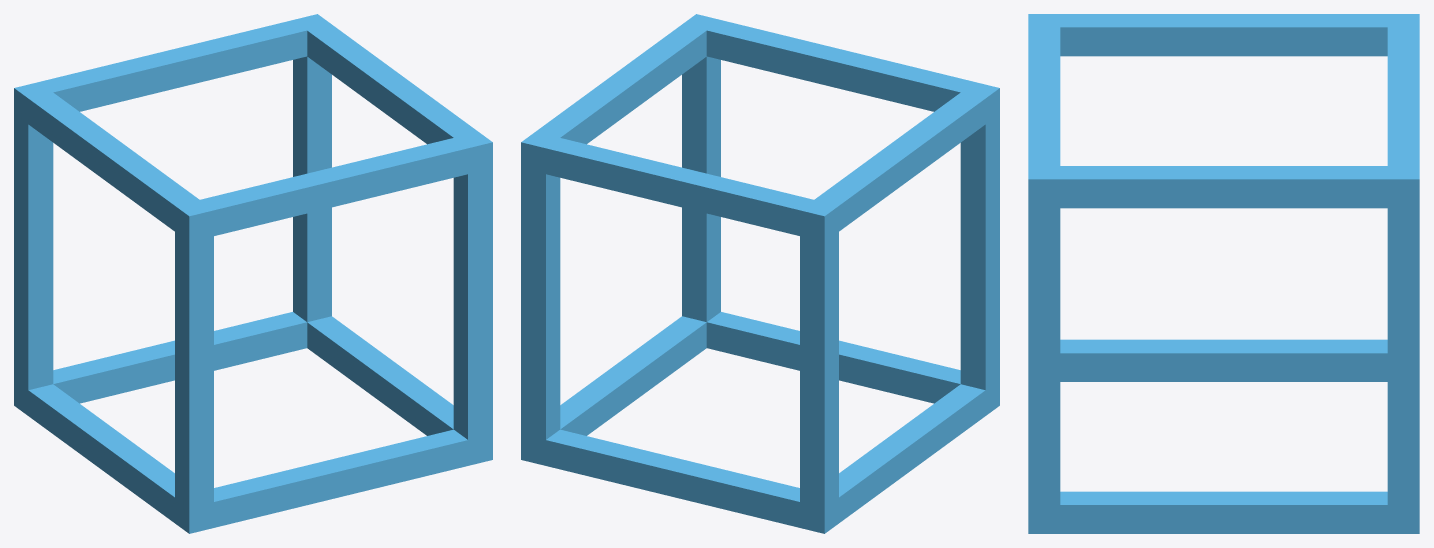
File: toggleblock_on_off.obj
The picture shows the model from 3 angles, left to right: view 1: azimuth 30°, elevation 25°; view 2: azimuth 150°, elevation 25°; view 3: azimuth 270°, elevation 25°; orthographic projection. The views are drawn at different scales.
Visible parts, largest first — view 1: Cube; view 2: Cube; view 3: Cube.
Part boxes in pixels (bbox=[...]): Cube: bbox=[14, 14, 492, 533]; Cube: bbox=[521, 14, 999, 533]; Cube: bbox=[1028, 14, 1419, 533].
Size of the model in its own units: 1 by 1 by 1.
1 material, 1 textured.
